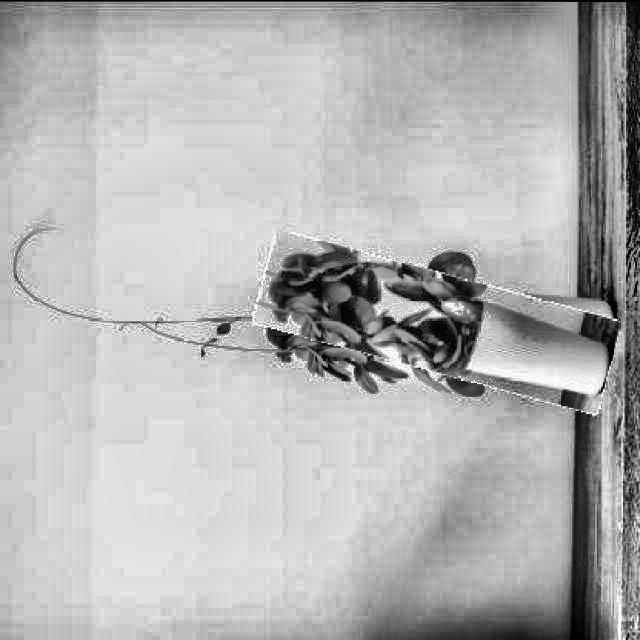plants: (256, 250, 619, 392)
